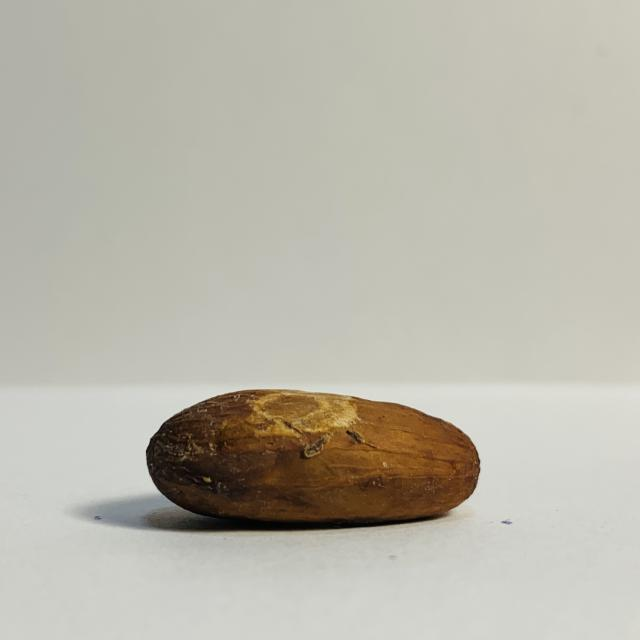Fine_cocoabeans: (58, 362, 579, 640)
